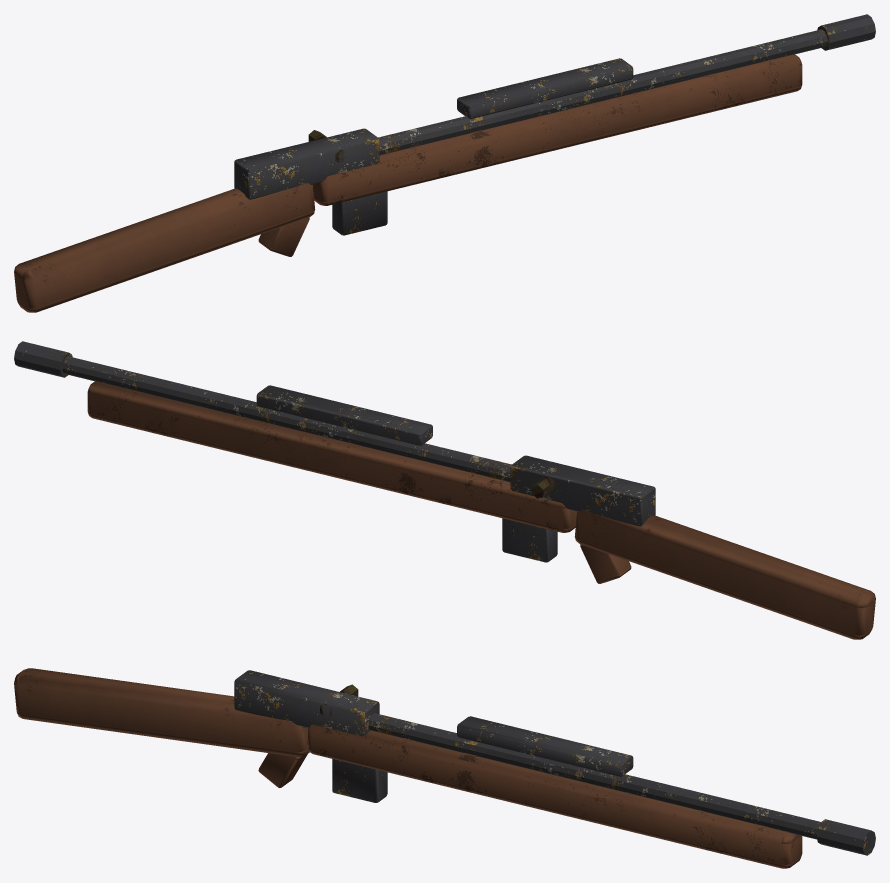
Rendered from held_weapon_svt40.glb.
3 renders of one model, top to bottom at view 1: azimuth 30°, elevation 25°; view 2: azimuth 150°, elevation 25°; view 3: azimuth 330°, elevation 25°, orthographic.
Parts seen in each view (by area): view 1: box.001, box.002, cyl, box, box.005, box.004, cyl.002, box.003; view 2: box.001, box.002, cyl, box, box.005, box.004, cyl.002, box.003; view 3: box.001, box.002, cyl, box, box.005, box.004, cyl.002, box.003.
Part boxes in pixels (box(x1,y1,x2,y2)): box.001: box(313, 54, 802, 205); box.002: box(14, 183, 315, 312); cyl: box(378, 29, 827, 155); box: box(234, 128, 379, 199); box.005: box(457, 58, 633, 118); box.004: box(332, 191, 387, 235); cyl.002: box(817, 14, 875, 50); box.003: box(258, 217, 309, 256); box.001: box(87, 381, 576, 532); box.002: box(574, 510, 875, 639); cyl: box(62, 356, 511, 482); box: box(510, 455, 655, 526); box.005: box(256, 385, 432, 445); box.004: box(502, 518, 557, 562); cyl.002: box(14, 341, 72, 377); box.003: box(580, 544, 631, 583); box.001: box(308, 724, 802, 868); box.002: box(14, 668, 309, 756); cyl: box(368, 713, 873, 850); box: box(234, 670, 379, 736); box.005: box(457, 716, 633, 776); box.004: box(332, 759, 387, 802); cyl.002: box(816, 819, 875, 855); box.003: box(258, 753, 307, 787).
Size of the model in its own units: 1.29 by 0.1557 by 0.0725.
3 materials, 3 textured.
